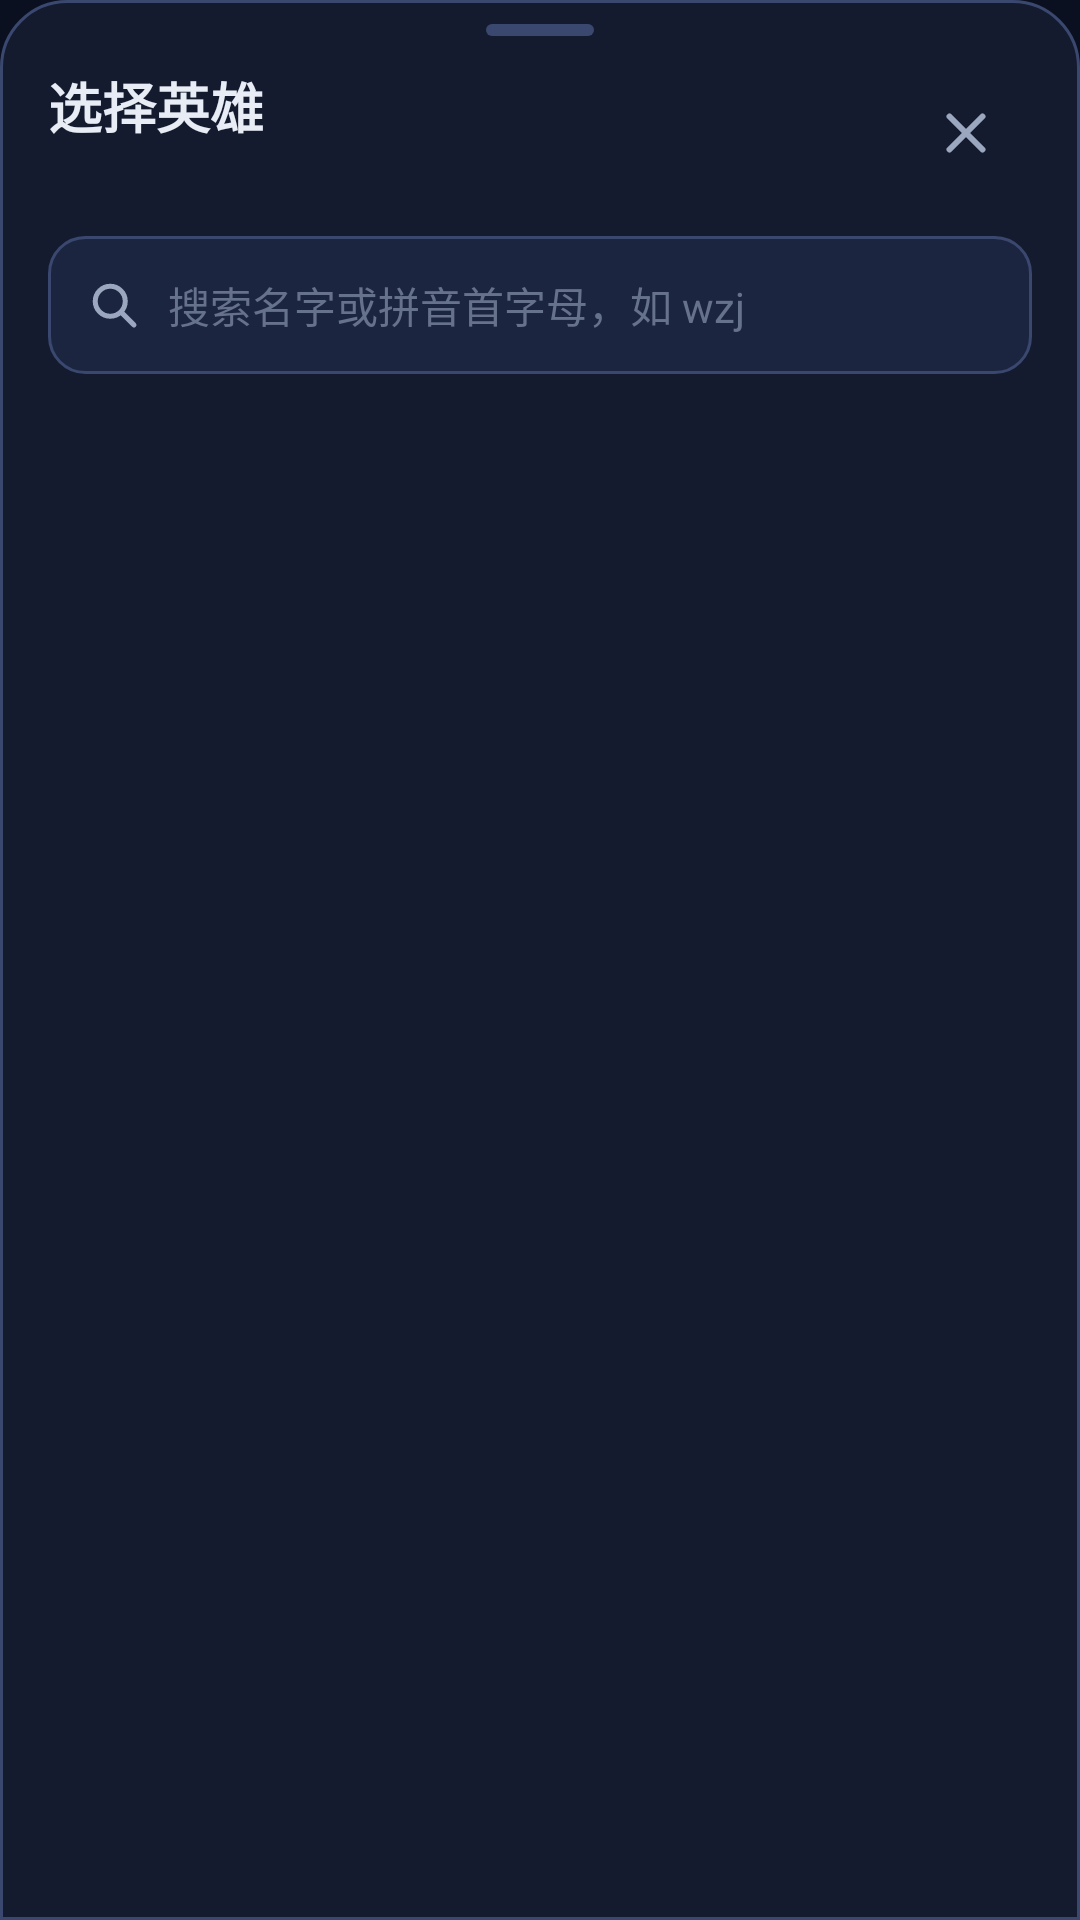

Icons on this 1080*1920 Android screen, each with the point to tap as (x=x, y=y):
search: (x=114, y=305)
关闭: (x=966, y=133)
